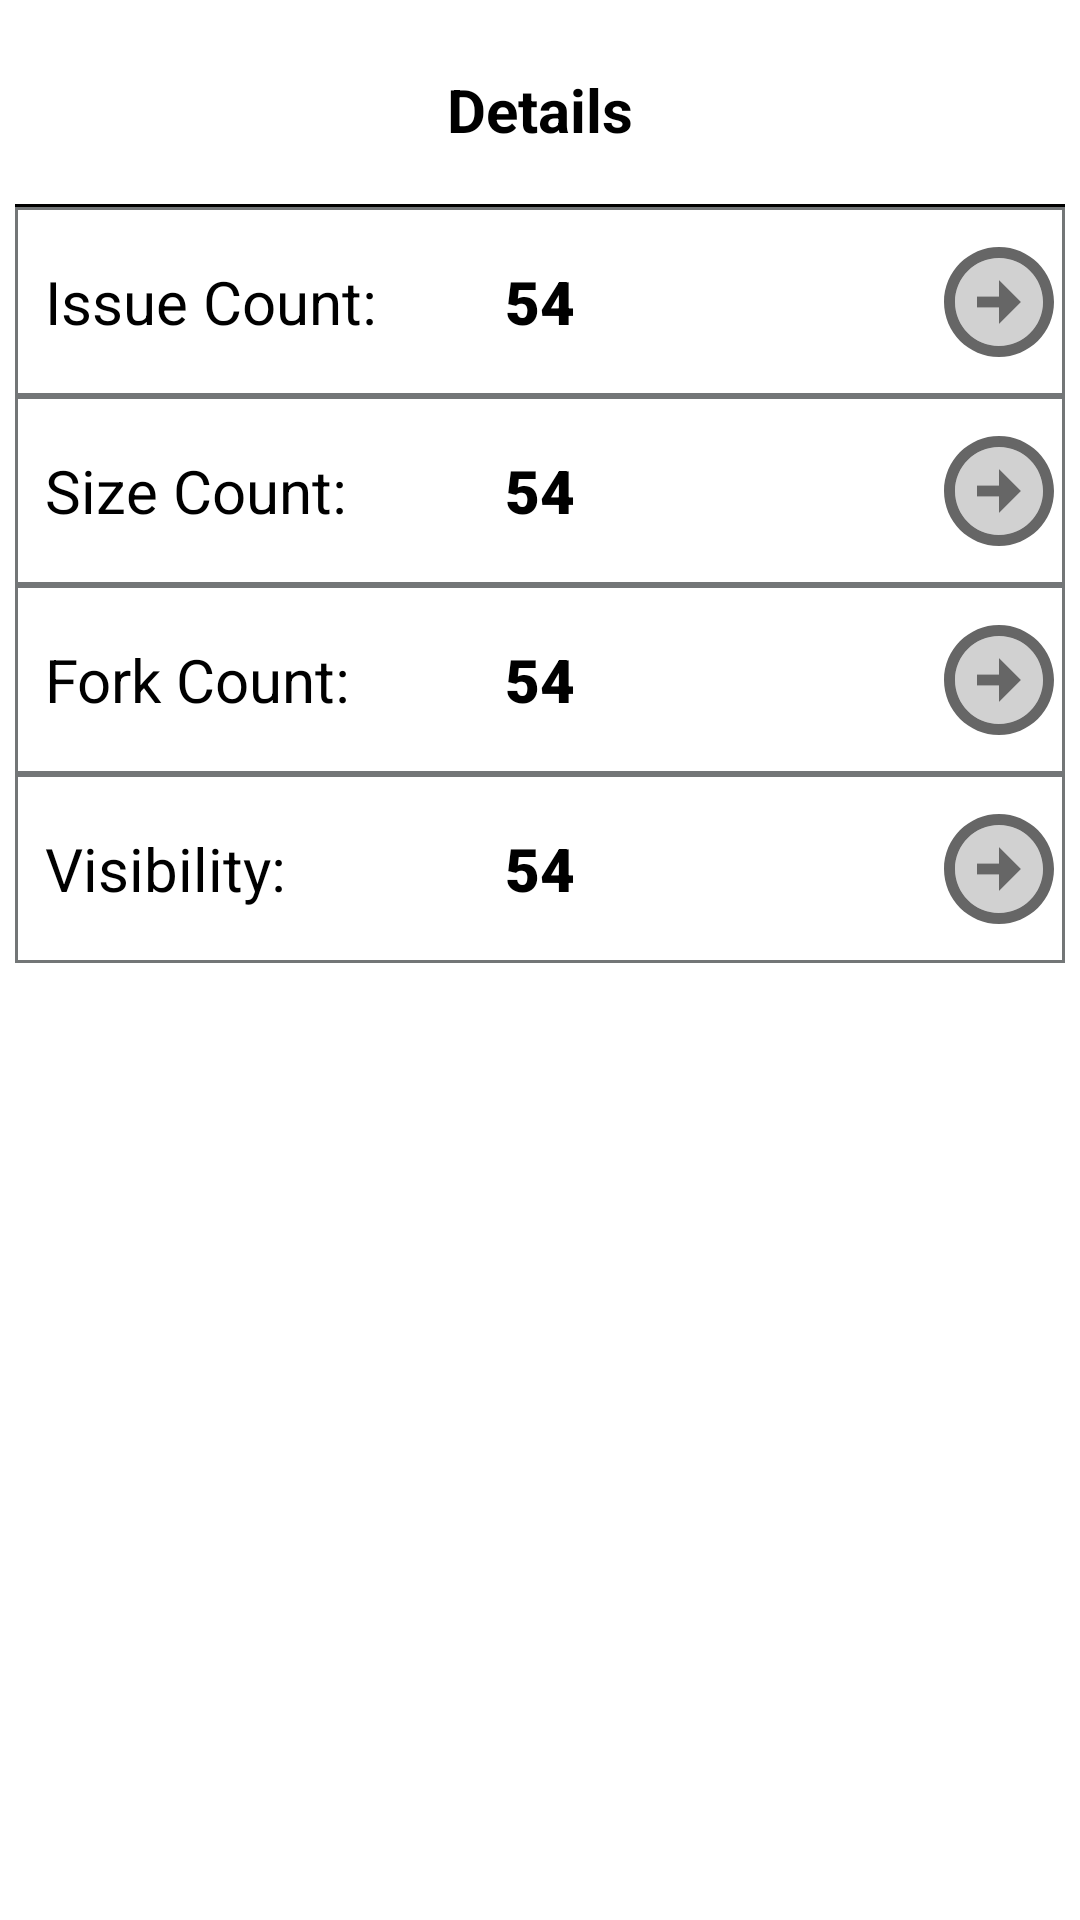

Where to tap for icons on this 1080px x 1920px app screen, as (x=x, y=y):
arrow circle right: (x=999, y=302), (x=999, y=491), (x=999, y=680), (x=999, y=869)
